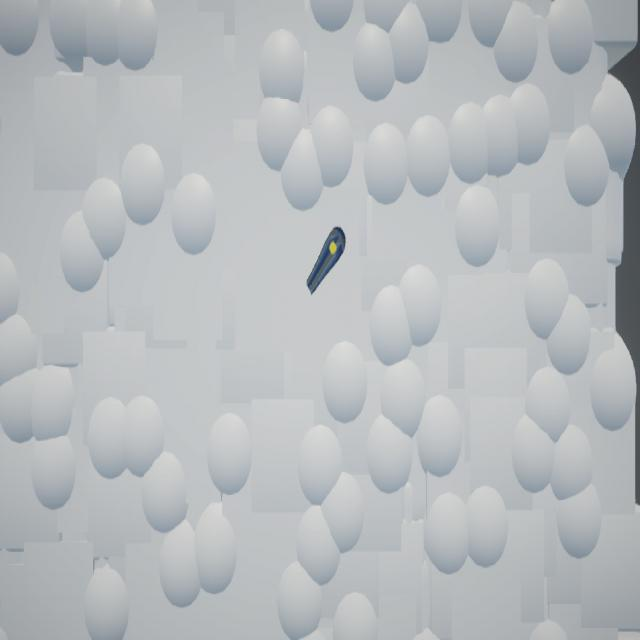handle_knife: (307, 227, 347, 296)
